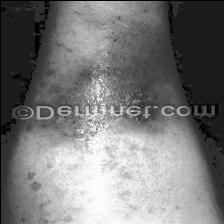Toxin: (36, 0, 166, 145)
